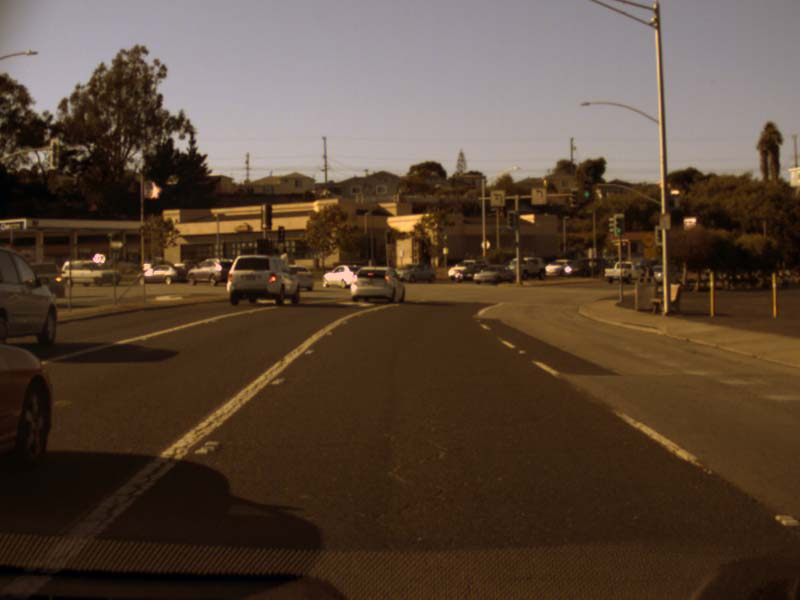Green: (612, 212, 623, 236), (581, 178, 592, 198)
